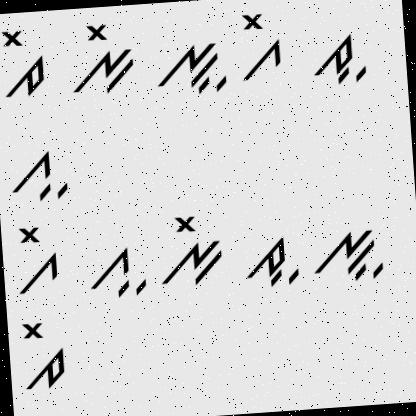gah: (5, 137, 77, 206), (82, 241, 150, 305)
go: (13, 219, 62, 302), (234, 8, 286, 85)
ngah: (152, 36, 233, 106), (310, 221, 389, 290)
ngo: (154, 207, 230, 288), (66, 18, 140, 98)
tah: (305, 23, 370, 91), (240, 226, 302, 295)
to: (14, 316, 70, 393), (0, 22, 49, 101)
